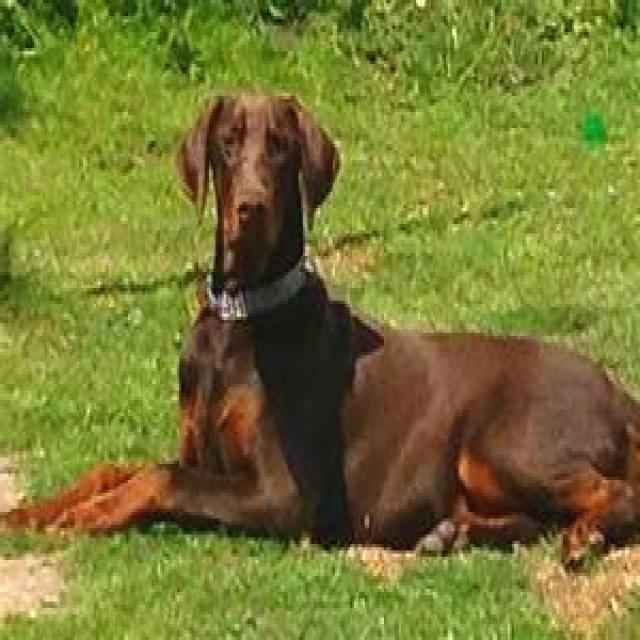KOPEK: (0, 83, 638, 560)
